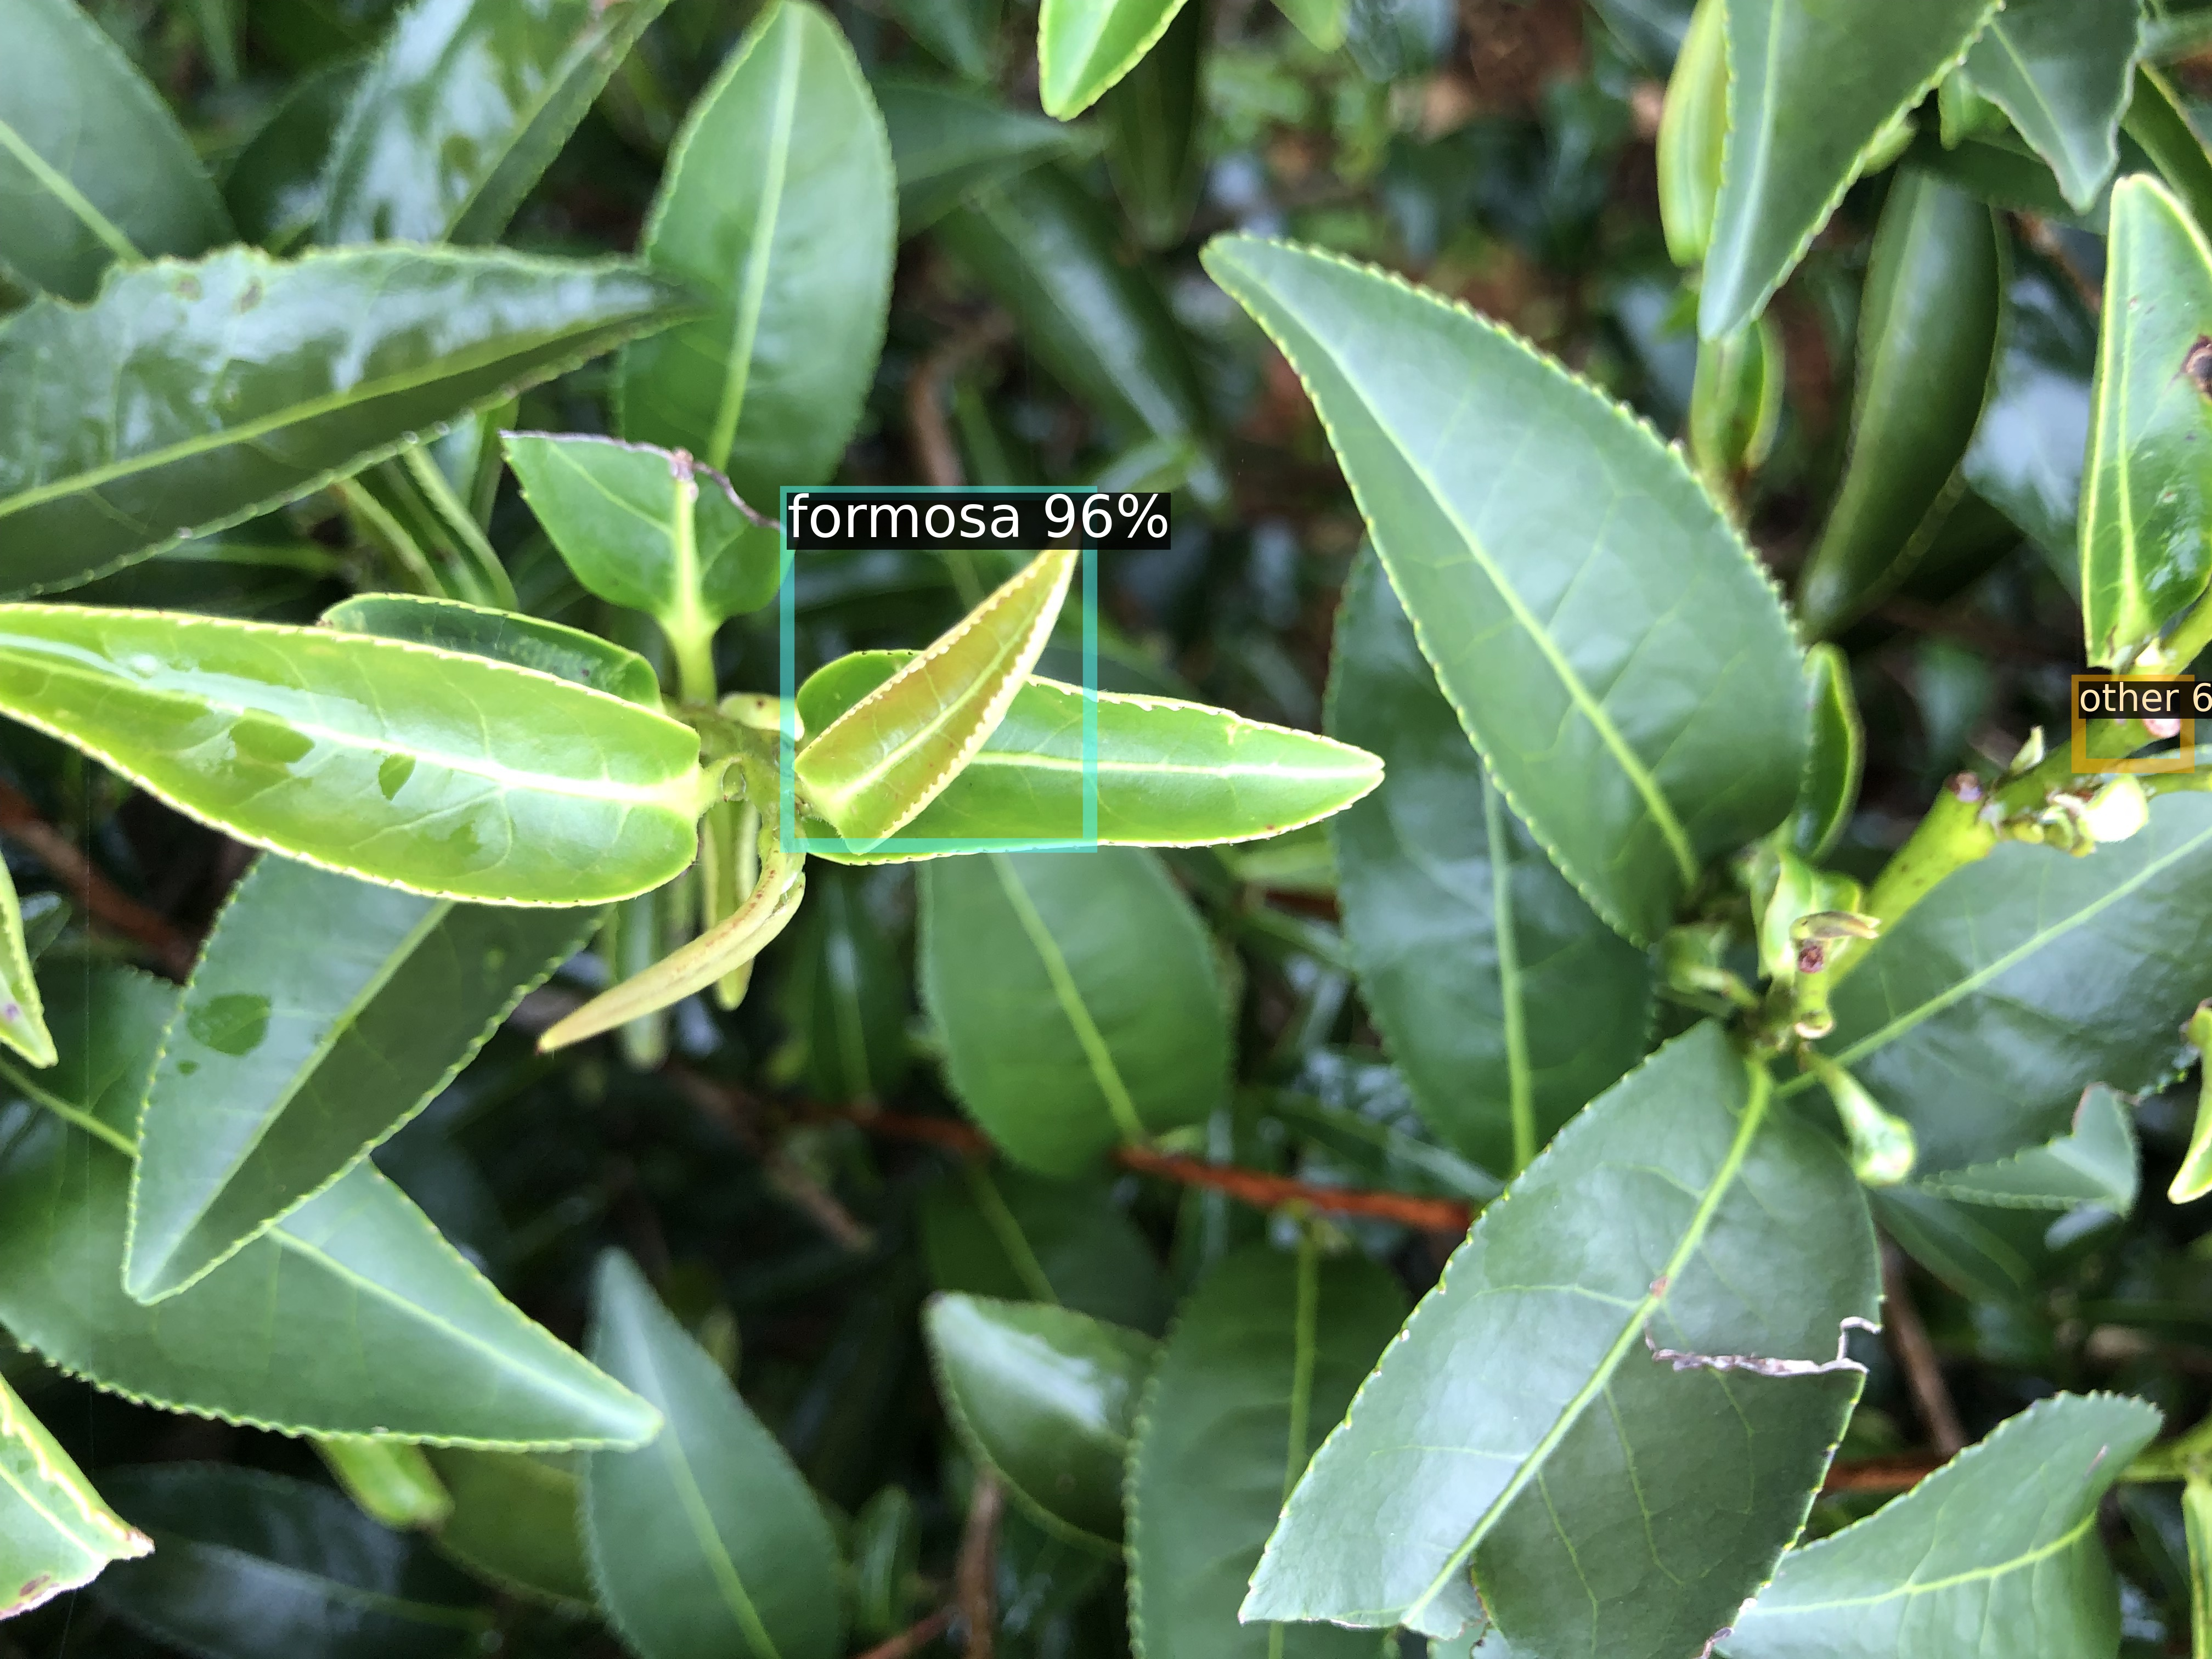formosa: (787, 493, 1090, 845)
other: (2078, 681, 2188, 765)
